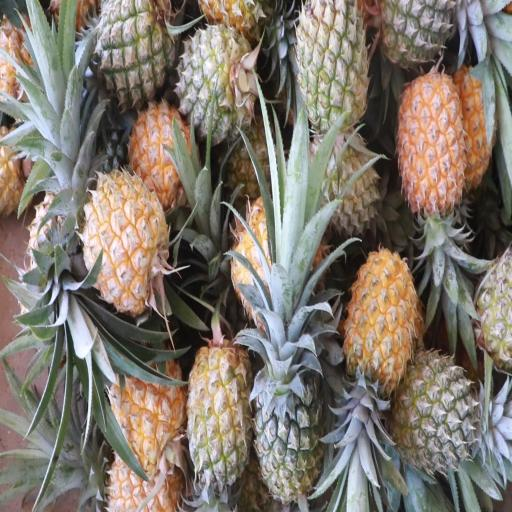------------------------------: (190, 330, 254, 502)
Pineapple - v8 v1: (344, 236, 416, 464), (400, 68, 467, 297), (74, 167, 172, 301), (103, 342, 185, 475), (128, 103, 204, 216)
